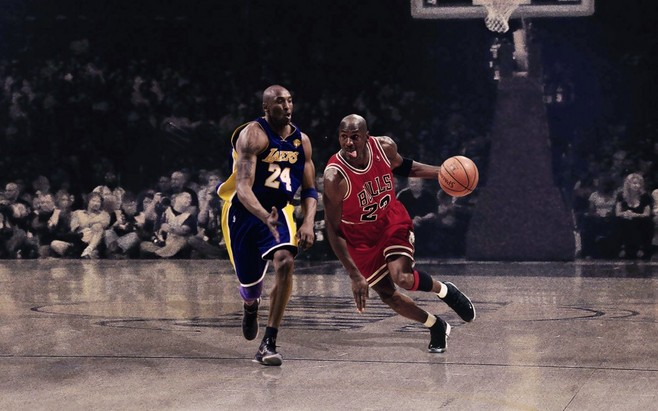ball: (437, 154, 480, 199)
